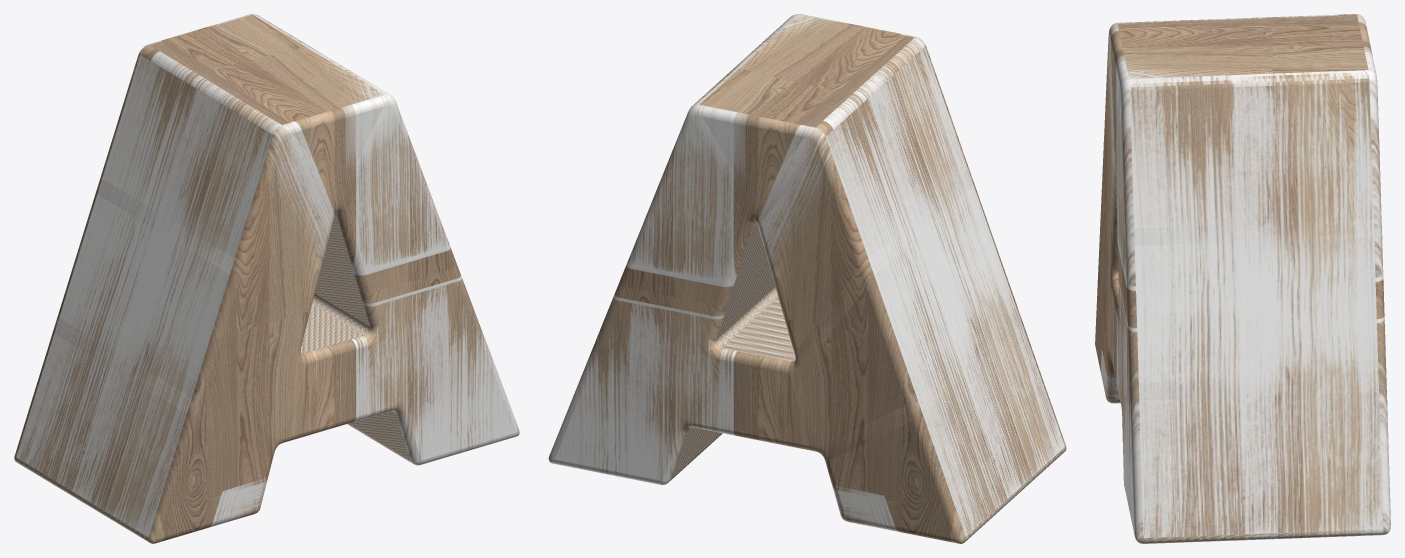
File: decor_letter_a.glb
3 views of the same model, side by side, from view 1: azimuth 30°, elevation 25°; view 2: azimuth 150°, elevation 25°; view 3: azimuth 270°, elevation 25° (orthographic). The views are drawn at different scales.
Visible parts, largest first — view 1: Geom3D, Geom3D_3DGeom~2_Defintion#2_3DGeom~2; view 2: Geom3D, Geom3D_3DGeom~2_Defintion#2_3DGeom~2; view 3: Geom3D, Geom3D_3DGeom~2_Defintion#2_3DGeom~2.
Part boxes in pixels (x1,y1,x2,y2): Geom3D: (14, 14, 519, 543); Geom3D_3DGeom~2_Defintion#2_3DGeom~2: (16, 213, 412, 541); Geom3D: (548, 14, 1066, 543); Geom3D_3DGeom~2_Defintion#2_3DGeom~2: (670, 220, 1065, 540); Geom3D: (1095, 14, 1390, 543); Geom3D_3DGeom~2_Defintion#2_3DGeom~2: (1114, 380, 1378, 543).
Size of the model in its own units: 0.114 by 0.1016 by 0.0689.
1 material, 1 textured.
